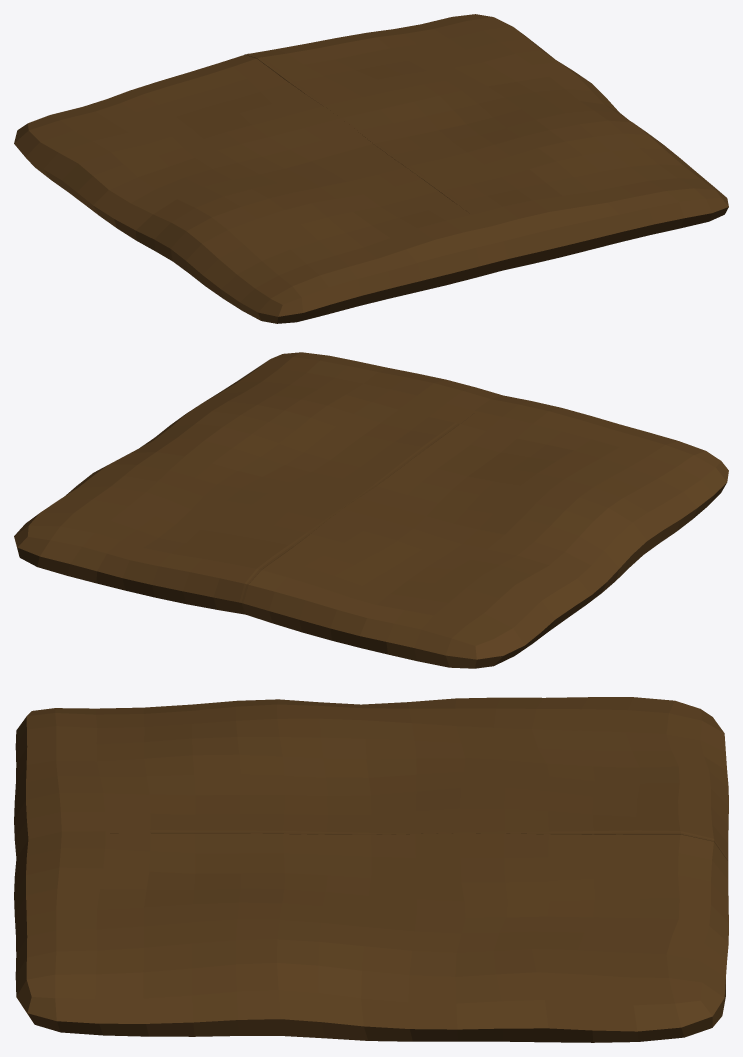
File: Ground_Tile_One.fbx
3 views of the same model, one above another, from view 1: azimuth 30°, elevation 25°; view 2: azimuth 150°, elevation 25°; view 3: azimuth 270°, elevation 25° (orthographic). The views are drawn at different scales.
Parts seen in each view (by area): view 1: Cube.001; view 2: Cube.001; view 3: Cube.001.
Part boxes in pixels (x1,y1,x2,y2): Cube.001: (14, 14, 728, 323); Cube.001: (14, 352, 728, 668); Cube.001: (14, 697, 728, 1042).
Bounding box in the file's own units: 2874 × 256 × 2667.
